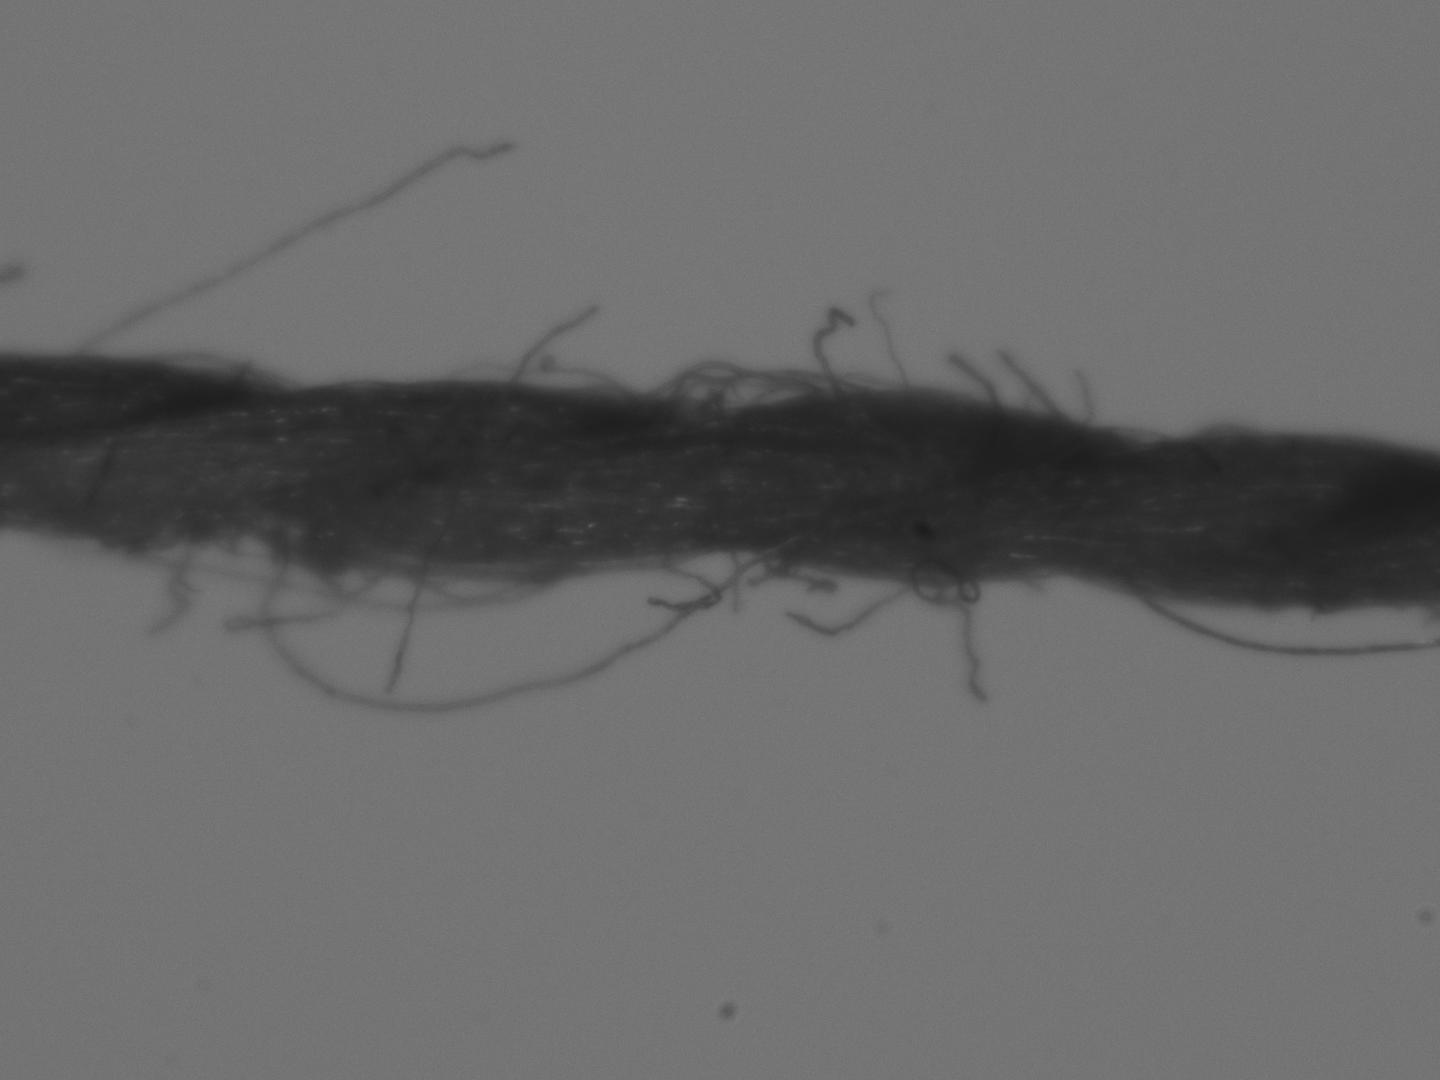loop_fiber: (95, 533, 801, 718), (1123, 582, 1439, 659), (646, 358, 923, 411), (414, 353, 636, 402), (917, 571, 984, 601)
protruding_fiber: (66, 141, 513, 360), (904, 568, 983, 702), (783, 569, 921, 641), (502, 299, 607, 385), (387, 554, 434, 700), (864, 284, 918, 408), (811, 304, 859, 403), (1001, 346, 1059, 419), (945, 353, 1003, 415), (763, 550, 838, 596), (1070, 362, 1090, 427)
